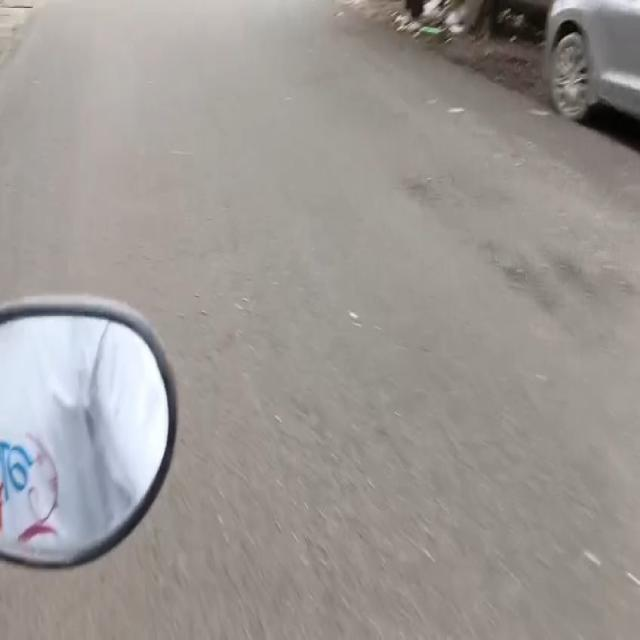road-pothole: (498, 250, 636, 332)
